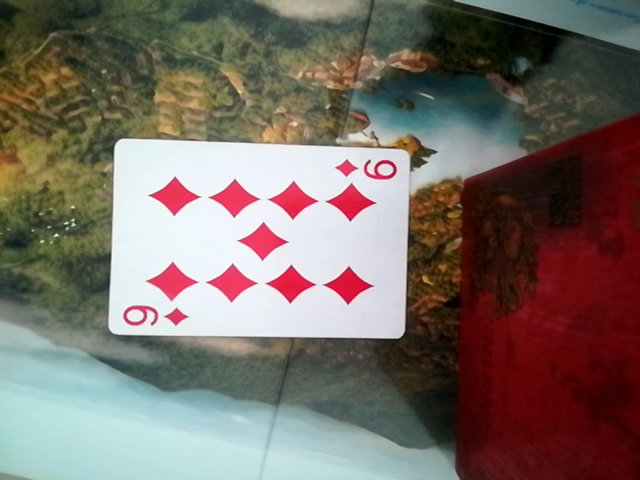fk 9: (98, 139, 412, 343)
